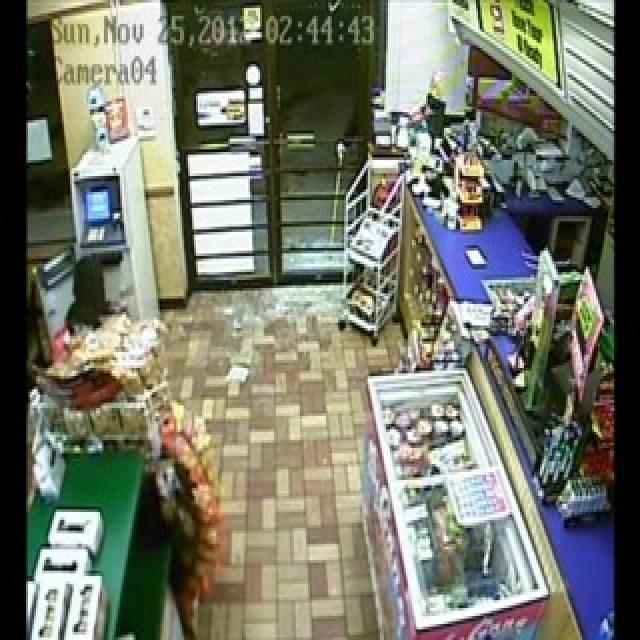thief: (59, 237, 148, 382)
